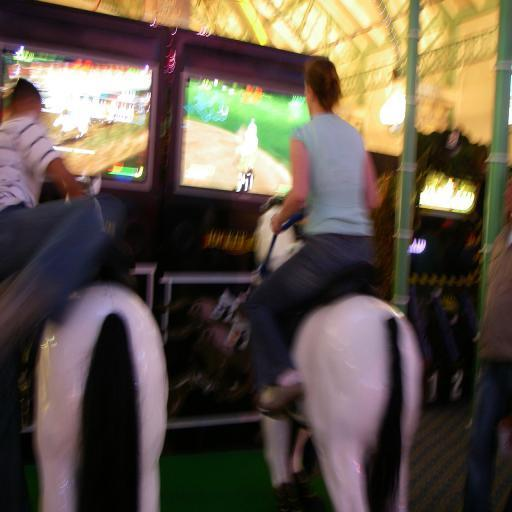horse: (253, 194, 420, 512), (32, 171, 166, 512)
